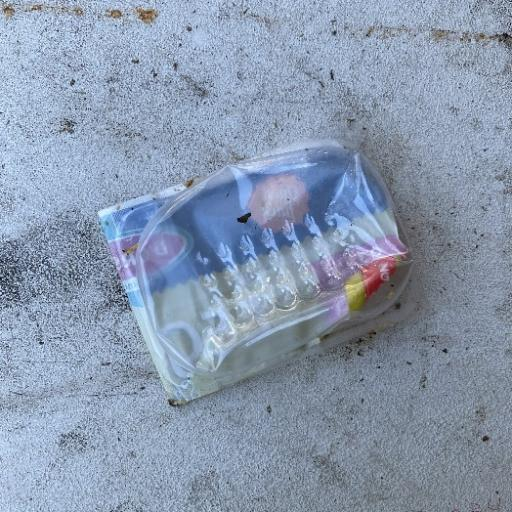Plastic: (96, 138, 415, 406)
